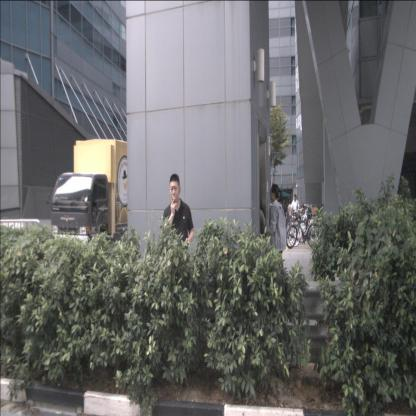human-pedestrian-adult: (160, 174, 194, 338), (264, 184, 286, 300), (290, 194, 299, 234), (282, 200, 288, 231), (288, 200, 293, 230), (300, 202, 305, 228)
vehicle-truck: (52, 137, 144, 255)
